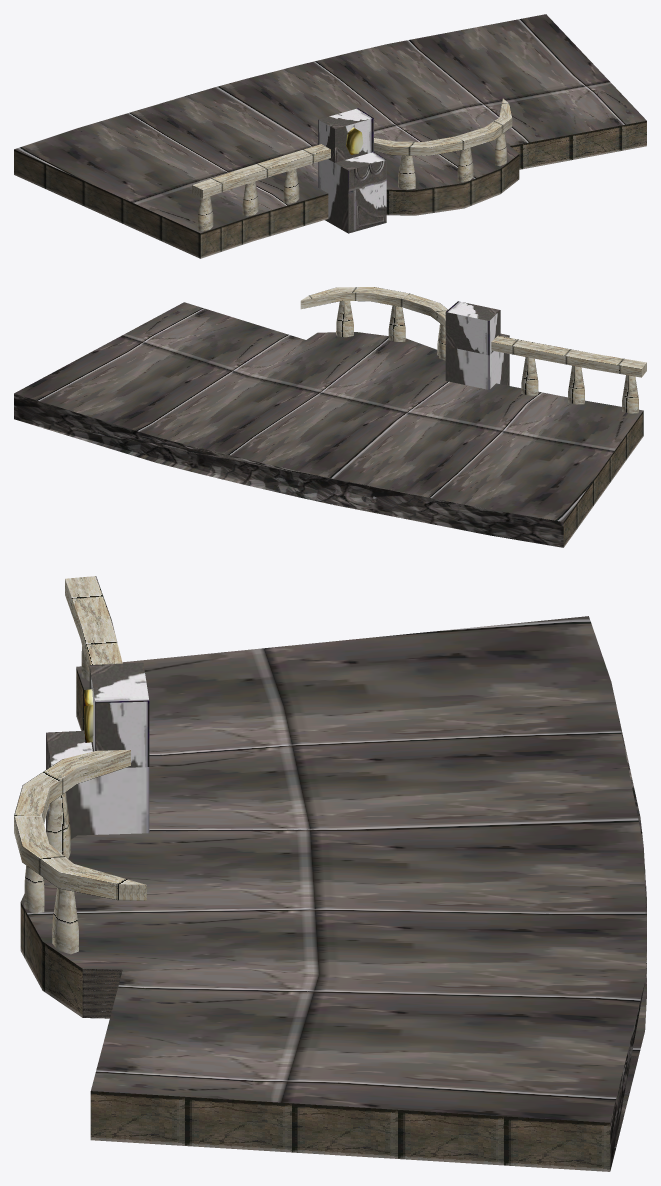
Rendered from INST_SM_WALKWAYB.obj.
3 views of the same model, one above another, from view 1: azimuth 30°, elevation 25°; view 2: azimuth 150°, elevation 25°; view 3: azimuth 270°, elevation 25° (orthographic). The views are drawn at different scales.
Parts seen in each view (by area): view 1: Object162pr, Object03; view 2: Object162pr, Object01, Object03; view 3: Object162pr, Object03, Object01, Object02.
Boxes of the visible parts, box(x1,y1,x2,y2) form: Object162pr: box(14, 14, 646, 258); Object03: box(14, 149, 200, 258); Object162pr: box(14, 287, 646, 530); Object01: box(14, 393, 563, 547); Object03: box(563, 411, 643, 547); Object162pr: box(14, 576, 646, 1169); Object03: box(90, 1091, 610, 1171); Object01: box(610, 696, 646, 1170); Object02: box(82, 969, 121, 1018).
Bounding box in the file's own units: 1349 × 232 × 712.
